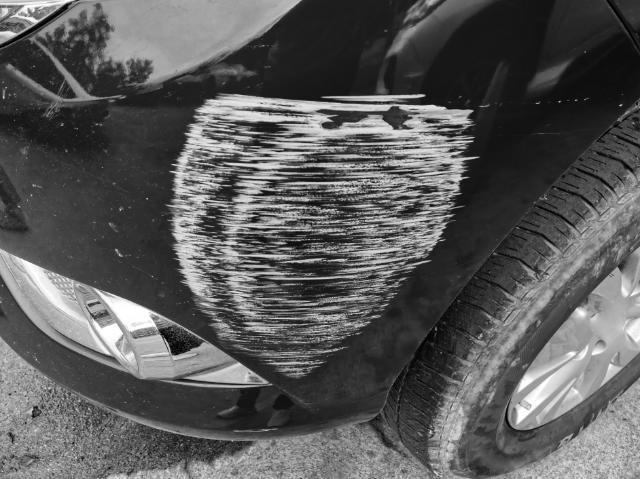Bumper: (134, 70, 488, 433)
